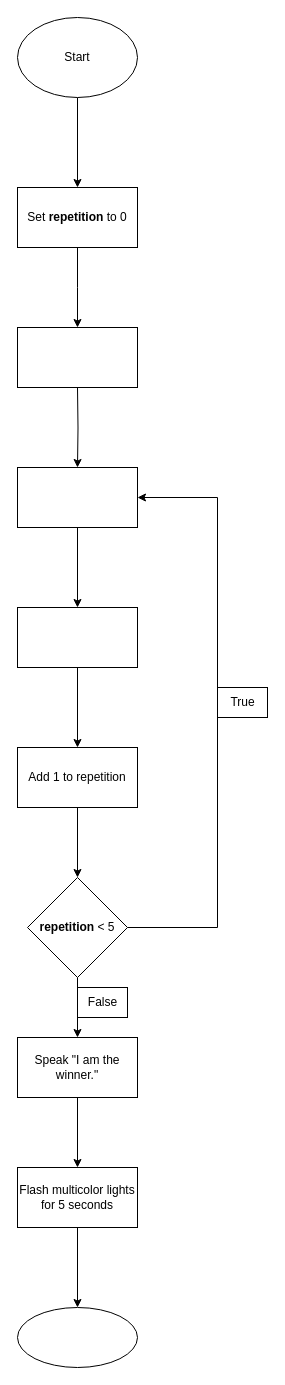
Image size: 285x1385. Some labels were removed from this diagram. Here are the shapes that lost their labels. From the top down, the centre of each, then its label:
At (x=77, y=357): "Set position in middle of figure 8.".
At (x=77, y=497): "Spin 360 ° back to original position".
At (x=77, y=637): "Spin -360 ° back to original position".
At (x=77, y=1337): "End".
